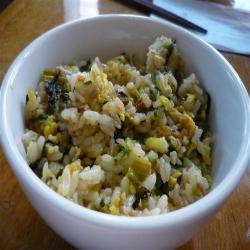rice: (27, 45, 223, 219)
